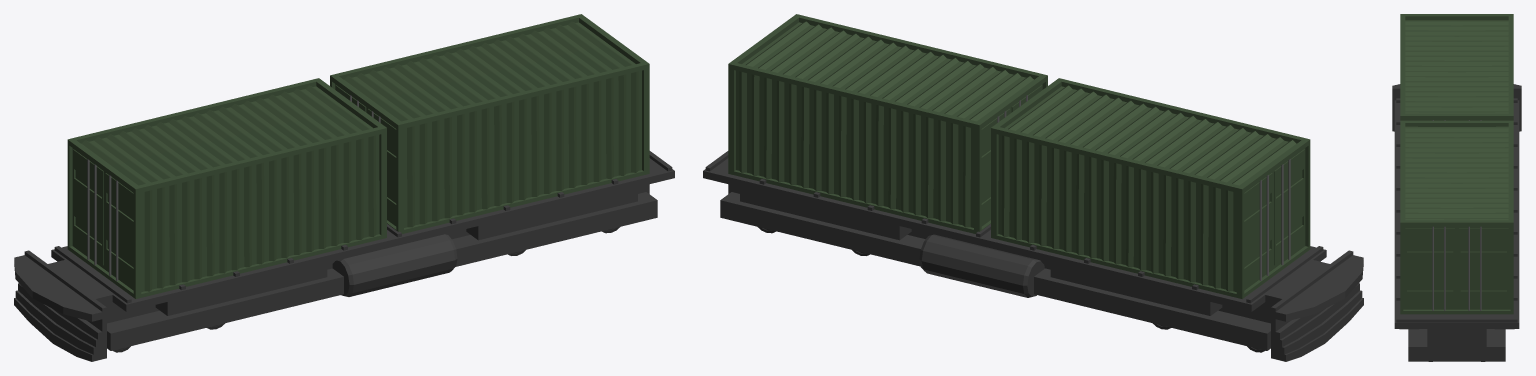
File: Cargo Train Container.glb
3 renders of one model, left to right at view 1: azimuth 30°, elevation 25°; view 2: azimuth 150°, elevation 25°; view 3: azimuth 270°, elevation 25°, orthographic. The views are drawn at different scales.
Parts seen in each view (by area): view 1: Wagon_Container; view 2: Wagon_Container; view 3: Wagon_Container.
Boxes of the visible parts, left/top/right/bottom form: Wagon_Container: left=14, top=14, right=674, bottom=361; Wagon_Container: left=703, top=14, right=1363, bottom=361; Wagon_Container: left=1392, top=14, right=1521, bottom=361.
Size of the model in its own units: 9.26 by 2.58 by 2.06.
